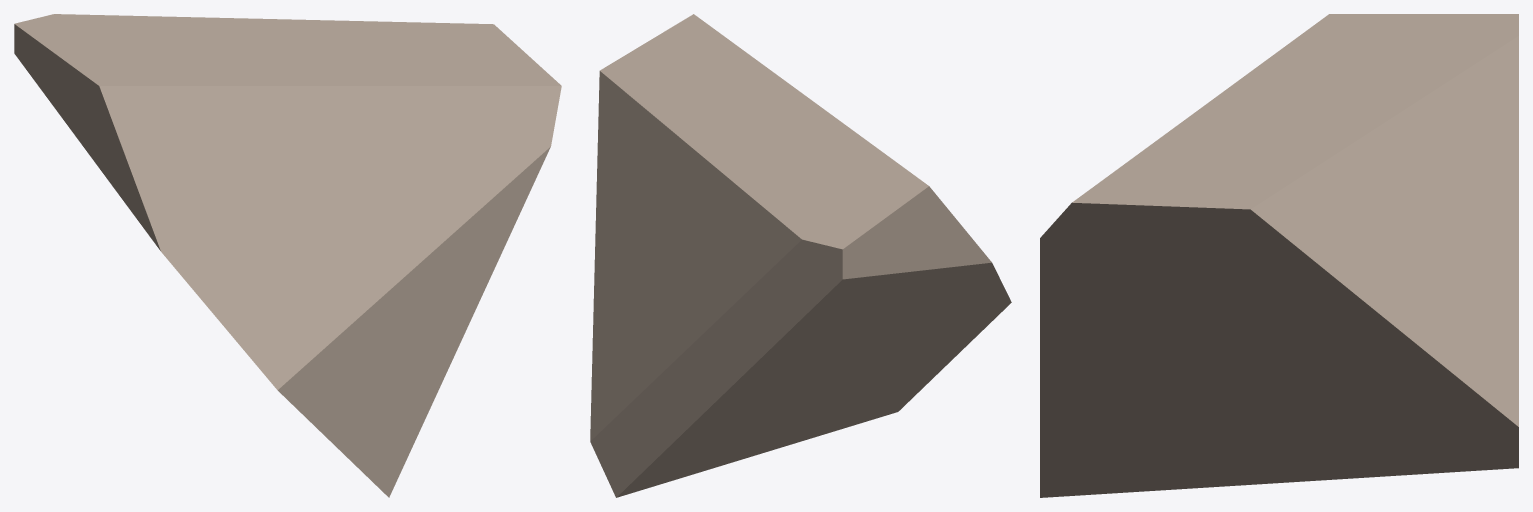
File: JaggedRock3.glb
The picture shows the model from 3 angles, left to right: view 1: azimuth 30°, elevation 25°; view 2: azimuth 150°, elevation 25°; view 3: azimuth 270°, elevation 25°; orthographic projection. The views are drawn at different scales.
Visible parts, largest first — view 1: JaggedRock3; view 2: JaggedRock3; view 3: JaggedRock3.
Boxes of the visible parts, x1,y1,x2,y2 form: JaggedRock3: [14, 14, 561, 497]; JaggedRock3: [590, 14, 1011, 497]; JaggedRock3: [1040, 14, 1518, 497].
Bounding box in the file's own units: 0.3662 × 0.3467 × 0.3791.
